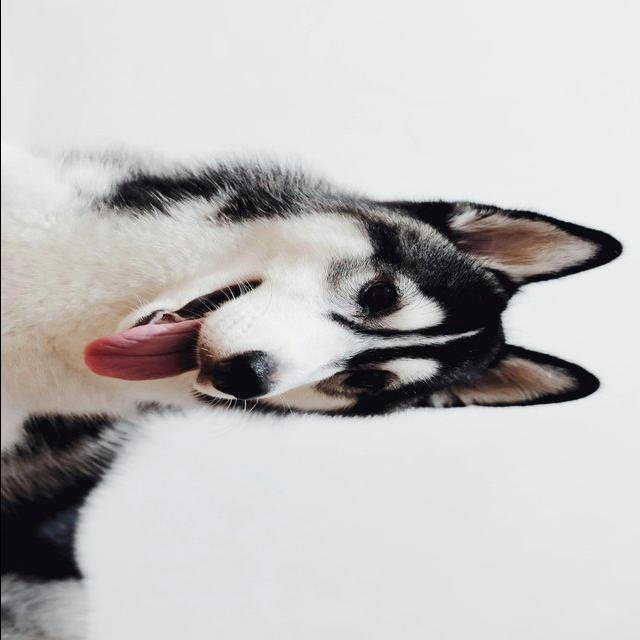husky: (2, 144, 624, 638)
